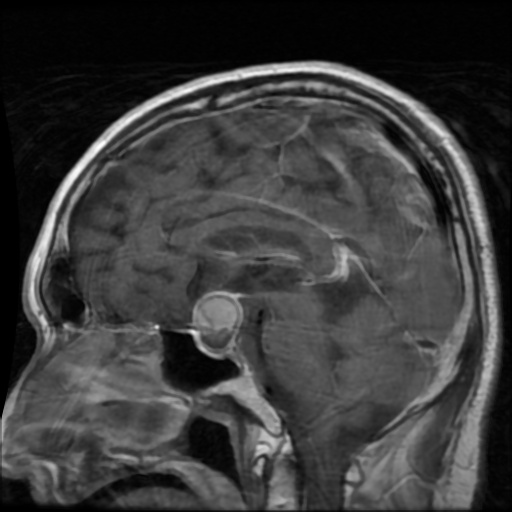pituitary: (193, 293, 242, 340)
